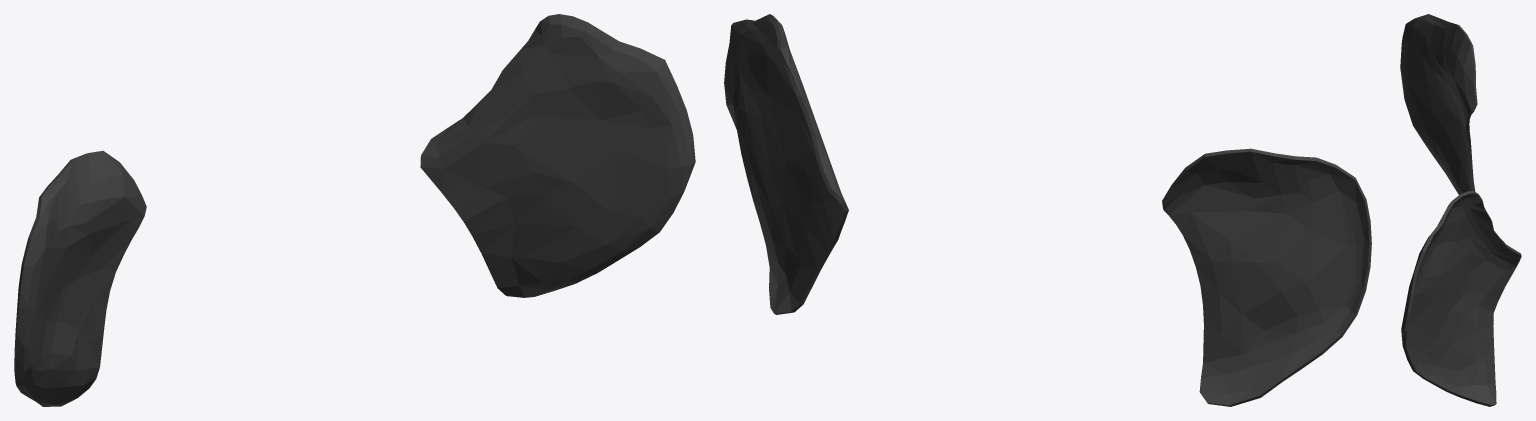
Rendered from c5_cranial_articular_surfaces.glb.
The picture shows the model from 3 angles, left to right: view 1: azimuth 30°, elevation 25°; view 2: azimuth 150°, elevation 25°; view 3: azimuth 270°, elevation 25°; orthographic projection. The views are drawn at different scales.
Visible parts, largest first — view 1: c5_cranial_articular_surfaces; view 2: c5_cranial_articular_surfaces; view 3: c5_cranial_articular_surfaces.
Boxes of the visible parts, x1,y1,x2,y2 form: c5_cranial_articular_surfaces: [14, 14, 695, 406]; c5_cranial_articular_surfaces: [724, 14, 1371, 406]; c5_cranial_articular_surfaces: [1400, 14, 1521, 406].
Size of the model in its own units: 41.56 by 17.12 by 8.54.
1 material, 1 textured.
